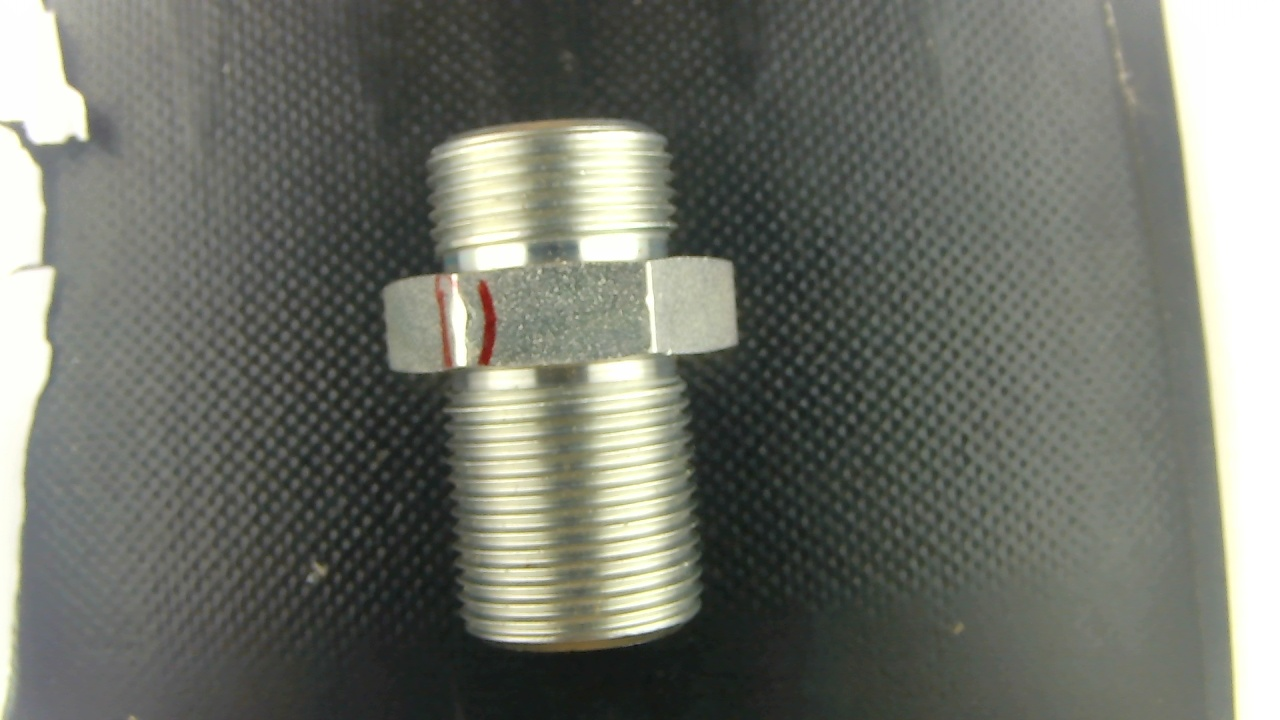Hex_damage: (441, 271, 473, 367)
